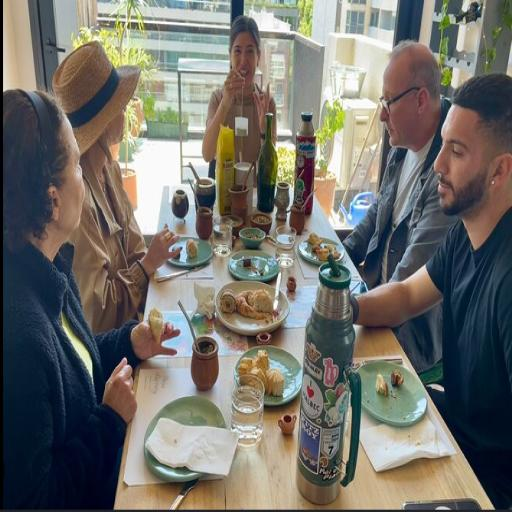mate: (168, 147, 218, 244), (178, 301, 218, 391)
termo: (297, 257, 361, 503), (292, 111, 316, 214)
